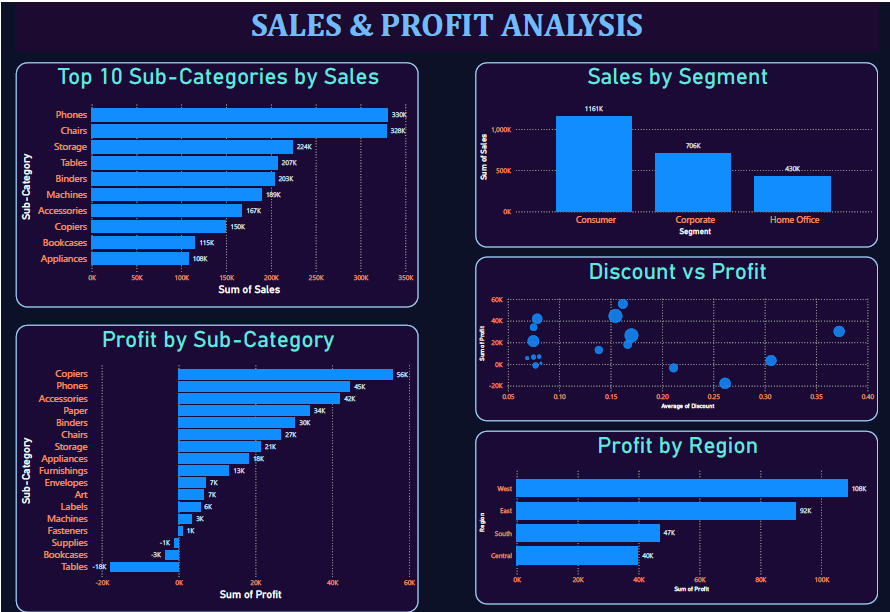

Layout of this report page (visuals, bound fields, positions):
{"tool":"powerbi","page":{"name":"Detailed Analysis","canvas":[1600,1100],"ordinal":1},"visuals":[{"type":"textbox","box":[26.4,0,1553.2,88],"z":0},{"type":"clusteredBarChart","title":"Top 10 Sub-Categories by Sales","fields":{"Category":["cleaned_Superstore_data.Sub-Category"],"Y":["Sum(cleaned_Superstore_data.Sales)"]},"box":[26.4,107.8,726,442.2],"z":1000},{"type":"clusteredColumnChart","title":"Sales by Segment","fields":{"Category":["cleaned_Superstore_data.Segment"],"Y":["Sum(cleaned_Superstore_data.Sales)"]},"box":[853.6,107.8,726,334.4],"z":2000},{"type":"clusteredBarChart","title":"Profit by Region","fields":{"Category":["cleaned_Superstore_data.Region"],"Y":["Sum(cleaned_Superstore_data.Profit)"]},"box":[853.6,772.2,726,312.4],"z":3000},{"type":"scatterChart","title":"Discount vs Profit","fields":{"X":["Avg(cleaned_Superstore_data.Discount)"],"Y":["Sum(cleaned_Superstore_data.Profit)"],"Category":["cleaned_Superstore_data.Sub-Category"],"Size":["Sum(cleaned_Superstore_data.Sales)"]},"box":[853.6,457.6,726,297],"z":4000},{"type":"clusteredBarChart","title":"Profit by Sub-Category","fields":{"Category":["cleaned_Superstore_data.Sub-Category"],"Y":["Sum(cleaned_Superstore_data.Profit)"]},"box":[26.4,580.8,726,519.2],"z":5000}]}

Visuals, with their boxes in screenshot pixels (x1, y1, x2, y2), scaled from the page's 1600x1100 canvas onto the 890x612 screenshot:
textbox: l=15, t=0, r=879, b=49
"Top 10 Sub-Categories by Sales" clusteredBarChart: l=15, t=60, r=419, b=306
"Sales by Segment" clusteredColumnChart: l=475, t=60, r=879, b=246
"Profit by Region" clusteredBarChart: l=475, t=430, r=879, b=603
"Discount vs Profit" scatterChart: l=475, t=255, r=879, b=420
"Profit by Sub-Category" clusteredBarChart: l=15, t=323, r=419, b=611
